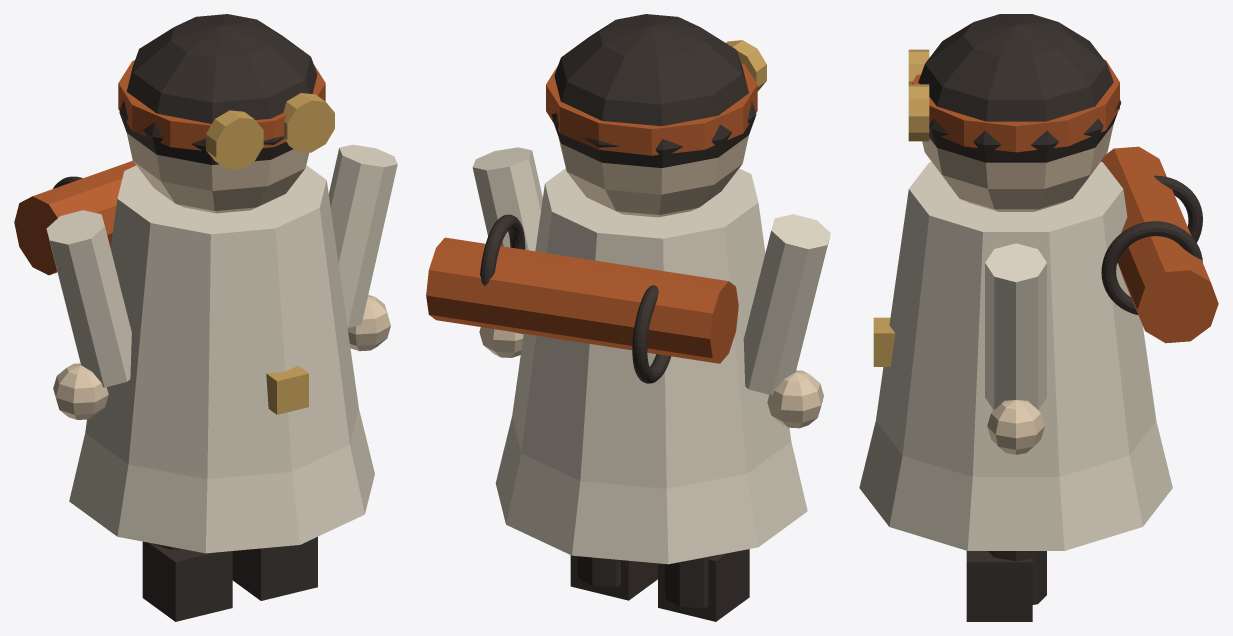
Rendered from traveler.glb.
The picture shows the model from 3 angles, left to right: view 1: azimuth 30°, elevation 25°; view 2: azimuth 150°, elevation 25°; view 3: azimuth 270°, elevation 25°; orthographic projection. The views are drawn at different scales.
Visible parts, largest first — view 1: Cone, Cone.001, Sphere.003, Cylinder.003, Cylinder.004, Sphere.002, Cube.001, Cylinder.008, Cube.002, Cylinder.005, Cylinder.006, Cylinder.007 (+3 smaller); view 2: Cone, Cylinder.008, Cone.001, Sphere.003, Cylinder.003, Sphere.002, Cylinder.005, Cylinder.004, Cube.001, Sphere, Cylinder.001, Torus (+5 smaller); view 3: Cone, Cone.001, Sphere.003, Cylinder.008, Cylinder.004, Sphere.002, Cylinder.005, Cube.002, Torus.001, Sphere.001, Cylinder.007, Cylinder.002 (+3 smaller).
Part boxes in pixels (x1,y1,x2,y2): Cone: (85, 165, 358, 479); Cone.001: (69, 409, 374, 553); Sphere.003: (119, 14, 317, 164); Cylinder.003: (46, 210, 131, 387); Cylinder.004: (328, 144, 397, 327); Sphere.002: (127, 133, 309, 213); Cube.001: (142, 541, 232, 621); Cylinder.008: (14, 160, 135, 275); Cube.002: (232, 537, 317, 600); Cylinder.005: (118, 60, 325, 150); Cylinder.006: (206, 110, 263, 169); Cylinder.007: (283, 93, 334, 152); Cone: (512, 168, 791, 488); Cylinder.008: (426, 237, 738, 363); Cone.001: (495, 416, 807, 564); Sphere.003: (551, 14, 756, 167); Cylinder.003: (743, 214, 830, 395); Sphere.002: (558, 135, 748, 217); Cylinder.005: (546, 63, 757, 155); Cylinder.004: (472, 147, 542, 334); Cube.001: (658, 549, 749, 621); Sphere: (767, 370, 823, 428); Cylinder.001: (665, 554, 722, 608); Torus: (632, 285, 671, 383); Cone: (876, 161, 1156, 476); Cone.001: (859, 421, 1172, 550); Sphere.003: (918, 14, 1121, 162); Cylinder.008: (1101, 146, 1218, 343); Cylinder.004: (985, 243, 1046, 410); Sphere.002: (922, 124, 1113, 211); Cylinder.005: (912, 59, 1119, 152); Cube.002: (966, 551, 1032, 621); Torus.001: (1101, 221, 1202, 314); Sphere.001: (987, 400, 1044, 454); Cylinder.007: (908, 84, 929, 141); Cylinder.002: (988, 551, 1046, 604).
Bounding box in the file's own units: 0.9672 × 1.5 × 0.871.
